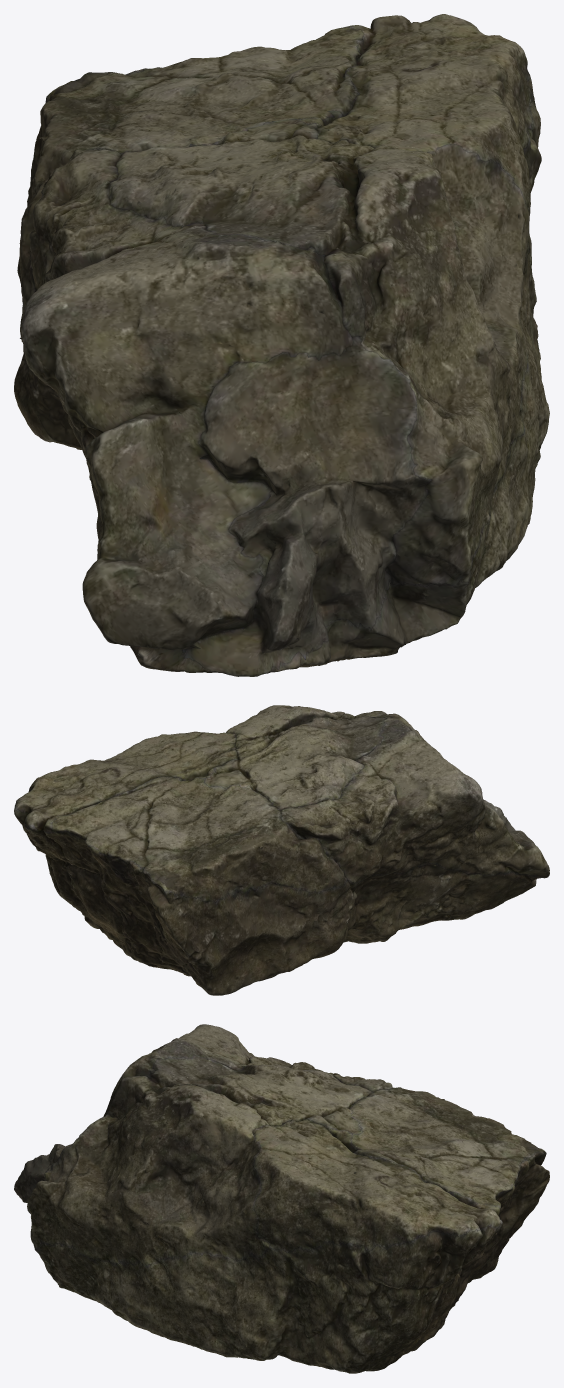
File: rock2-transformed.glb
3 renders of one model, top to bottom at view 1: azimuth 30°, elevation 25°; view 2: azimuth 150°, elevation 25°; view 3: azimuth 270°, elevation 25°, orthographic. The views are drawn at different scales.
Parts seen in each view (by area): view 1: Object_6; view 2: Object_6; view 3: Object_6.
Part boxes in pixels (x1=…): Object_6: x1=14, y1=14, x2=549, y2=676; Object_6: x1=14, y1=705, x2=549, y2=995; Object_6: x1=14, y1=1024, x2=549, y2=1373.
Size of the model in its own units: 0.6849 by 0.3516 by 0.7537.
1 material, 1 textured.
